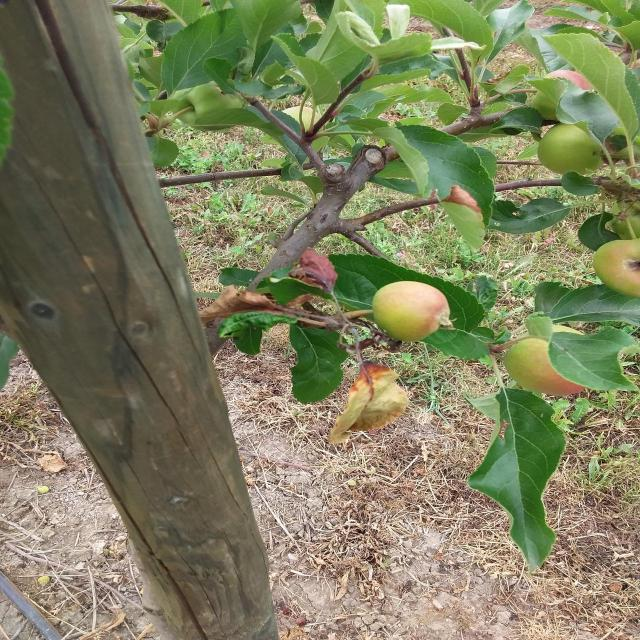-FireBlight-: (199, 265, 341, 338)
